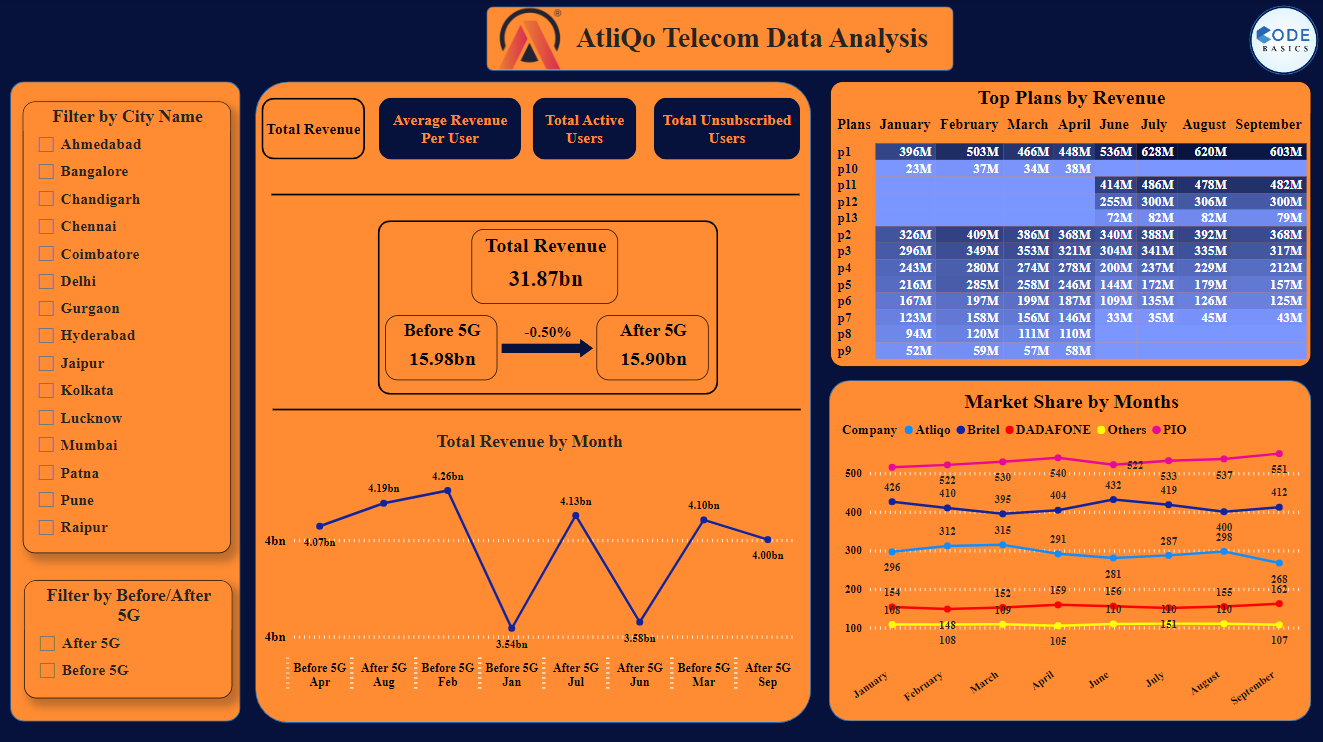

The dashboard page shown, as its layout file describes it:
{"tool":"powerbi","page":{"name":"Telecom Data Insights","canvas":[1600,900],"ordinal":0},"visuals":[{"type":"shape","box":[308.4,99.4,670.8,773.6],"z":0},{"type":"shape","title":"Top Plans by Revenue","box":[1002.2,99.5,580.2,344.4],"z":0,"group":"g2"},{"type":"card","title":"Total Revenue","fields":{"Values":["Key Measures.Total Revenue"]},"box":[569.4,277.4,177,90.5],"z":0,"group":"g1"},{"type":"actionButton","title":"Total Revenue","box":[316.3,119.7,125,74.5],"z":1000,"group":"g1"},{"type":"pivotTable","fields":{"Values":["fact_plan_revenue.TPR"],"Rows":["fact_plan_revenue.plans"],"Columns":["dim_date.date.Variation.Date Hierarchy.Month"]},"box":[1001,135.7,581.5,308.2],"z":1000,"group":"g2"},{"type":"shape","box":[456.1,266.7,410,210],"z":1000},{"type":"card","title":"Before 5G","fields":{"Values":["Key Measures.Revenue Before 5G"]},"box":[466.3,381.8,135.4,78.3],"z":2000,"group":"g1"},{"type":"shape","box":[1001,459.8,581.9,411.6],"z":2000},{"type":"shape","box":[588.7,9.5,563.4,77.3],"z":3000},{"type":"card","title":"After 5G","fields":{"Values":["Key Measures.Revenue After 5G"]},"box":[720.2,381.8,135.4,78.3],"z":3000,"group":"g1"},{"type":"shape","box":[14.2,99.4,277.8,771.8],"z":4000},{"type":"actionButton","title":"Total Revenue","box":[458.3,119.7,171.3,74.5],"z":4000,"group":"g1"},{"type":"image","box":[591,4.5,99.5,85.9],"z":5000},{"type":"tableEx","fields":{"Values":["Key Measures.Revenue Change%"]},"box":[621.3,358.9,116.1,75],"z":5000,"group":"g1"},{"type":"image","box":[1500,0,99.5,99.5],"z":6000},{"type":"actionButton","title":"Total Revenue","box":[644.4,119.7,125,74.5],"z":6000,"group":"g1"},{"type":"textbox","title":"AtliQo Telecom Data Analysis","box":[662.9,26.8,489.2,66.3],"z":7000},{"type":"shape","box":[606.3,411.4,110.8,22.6],"z":7000,"group":"g1"},{"type":"actionButton","title":"Total Revenue","box":[789.5,119.7,176,74.5],"z":8000,"group":"g1"},{"type":"slicer","title":"Filter by City Name","fields":{"Values":["dim_cities.city_name"]},"box":[28.4,123.1,250.9,544.5],"z":8000},{"type":"lineChart","title":"Total Revenue by Month","fields":{"Y":["Key Measures.Total Revenue"],"Category":["dim_date.month_name","dim_date.before/after_5g"]},"box":[315.2,522.1,649.2,321.8],"z":9000,"group":"g1"},{"type":"slicer","title":"Filter by Before/After 5G","fields":{"Values":["dim_date.before/after_5g"]},"box":[30,700.7,250.9,142],"z":9000},{"type":"lineChart","title":"Market Share by Months","fields":{"Series":["fact_market_share.company"],"Y":["Sum(fact_market_share.ms_pct)"],"Category":["dim_date.date.Variation.Date Hierarchy.Month"]},"box":[1011.6,471.9,563.8,399.5],"z":10000},{"type":"shape","box":[330,484.9,636.7,22.3],"z":10000,"group":"g1"},{"type":"group","id":"g1","title":"TR Chart","box":[315.2,119.7,651.5,724.2],"z":11000},{"type":"shape","box":[328.2,225.2,636.7,22.3],"z":11000,"group":"g1"},{"type":"group","id":"g2","title":"Group 1","box":[1001,99.5,581.9,345.2],"z":15001}]}

Visuals, with their boxes in screenshot pixels (x1, y1, x2, y2), scaled from the page's 1600x900 canvas onto the 1323x742 screenshot:
shape: pyautogui.locateOnScreen(255, 82, 810, 720)
"Top Plans by Revenue" shape: pyautogui.locateOnScreen(829, 82, 1308, 366)
"Total Revenue" card: pyautogui.locateOnScreen(471, 229, 617, 303)
"Total Revenue" actionButton: pyautogui.locateOnScreen(262, 99, 365, 160)
pivotTable - fact_plan_revenue.TPR x fact_plan_revenue.plans: pyautogui.locateOnScreen(828, 112, 1309, 366)
shape: pyautogui.locateOnScreen(377, 220, 716, 393)
"Before 5G" card: pyautogui.locateOnScreen(386, 315, 498, 379)
shape: pyautogui.locateOnScreen(828, 379, 1309, 718)
shape: pyautogui.locateOnScreen(487, 8, 953, 72)
"After 5G" card: pyautogui.locateOnScreen(596, 315, 707, 379)
shape: pyautogui.locateOnScreen(12, 82, 241, 718)
"Total Revenue" actionButton: pyautogui.locateOnScreen(379, 99, 521, 160)
image: pyautogui.locateOnScreen(489, 4, 571, 75)
tableEx - Key Measures.Revenue Change%: pyautogui.locateOnScreen(514, 296, 610, 358)
image: pyautogui.locateOnScreen(1240, 0, 1322, 82)
"Total Revenue" actionButton: pyautogui.locateOnScreen(533, 99, 636, 160)
"AtliQo Telecom Data Analysis" textbox: pyautogui.locateOnScreen(548, 22, 953, 77)
shape: pyautogui.locateOnScreen(501, 339, 593, 358)
"Total Revenue" actionButton: pyautogui.locateOnScreen(653, 99, 798, 160)
"Filter by City Name" slicer: pyautogui.locateOnScreen(23, 101, 231, 550)
"Total Revenue by Month" lineChart: pyautogui.locateOnScreen(261, 430, 797, 696)
"Filter by Before/After 5G" slicer: pyautogui.locateOnScreen(25, 578, 232, 695)
"Market Share by Months" lineChart: pyautogui.locateOnScreen(836, 389, 1303, 718)
shape: pyautogui.locateOnScreen(273, 400, 799, 418)
"TR Chart" group: pyautogui.locateOnScreen(261, 99, 799, 696)
shape: pyautogui.locateOnScreen(271, 186, 798, 204)
"Group 1" group: pyautogui.locateOnScreen(828, 82, 1309, 367)
